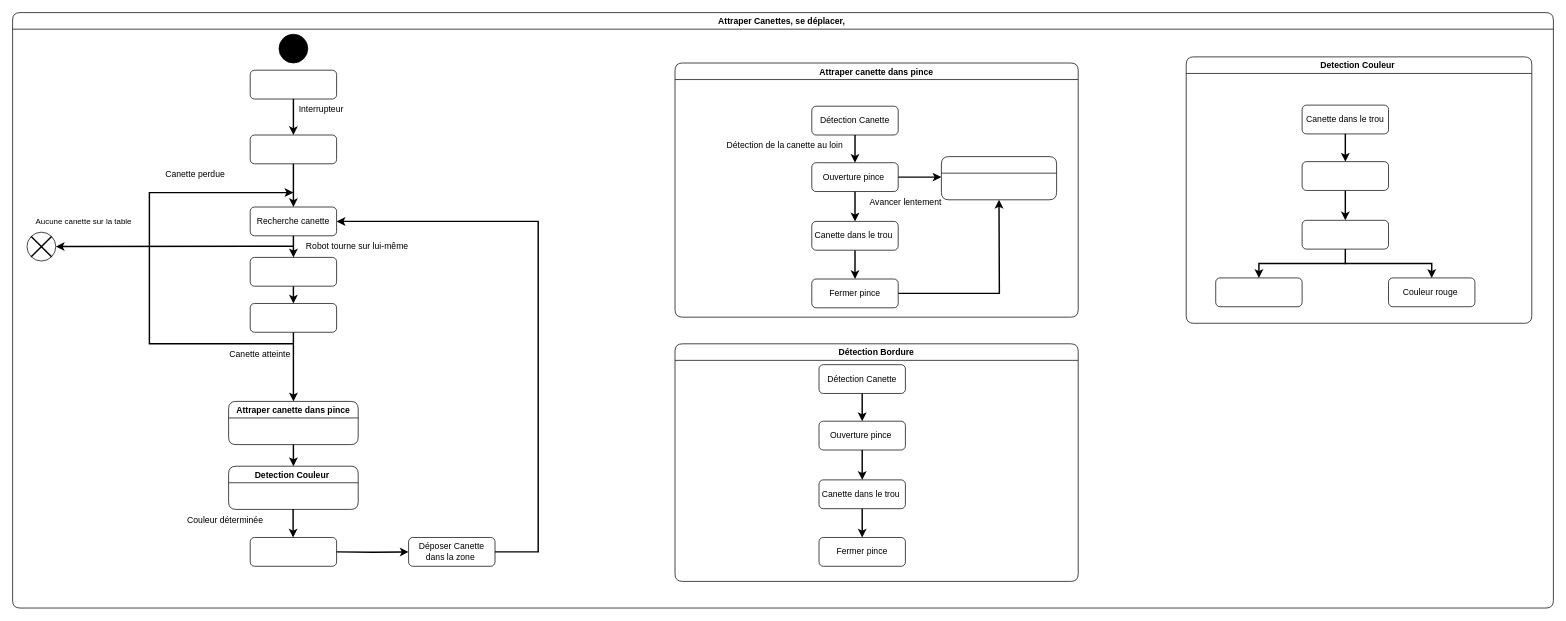
This 1566x621 diagram has some shape labels left out. Here are the shapes that lost their labels. From the top down, the centre of each, then its label:
At pixel 293 84: "Allumage".
At pixel 293 149: "Premier pas moteur".
At pixel 999 178: "Servomoteur".
At pixel 1345 175: "Activation capteur couleur".
At pixel 1345 234: "Détection couleur".
At pixel 293 271: "Canette détectée".
At pixel 1258 292: "Couleur verte".
At pixel 293 317: "Aller vers canette".
At pixel 293 551: "Chercher zone pour dépôt de la canette".
